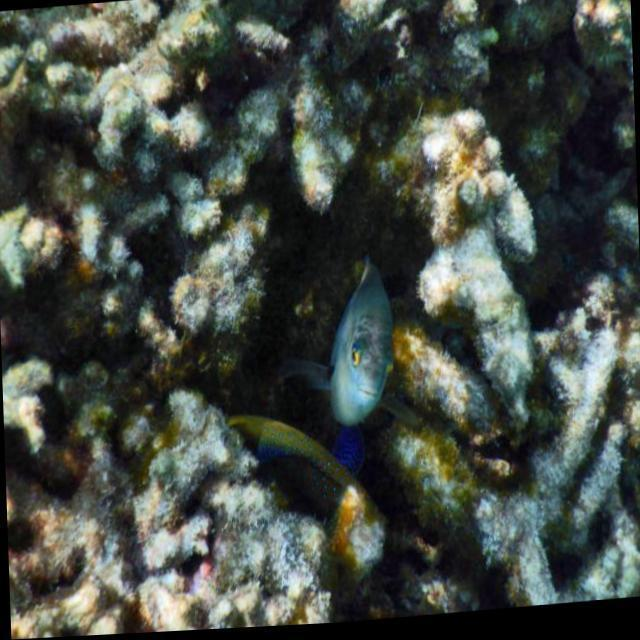Dead Coral: (13, 11, 538, 394), (7, 351, 319, 640), (463, 310, 640, 615), (0, 0, 215, 151)
